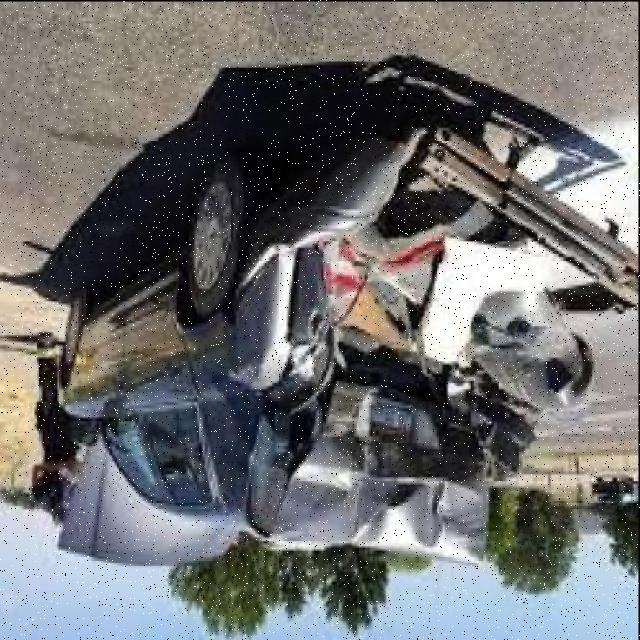damage: (232, 105, 640, 570)
